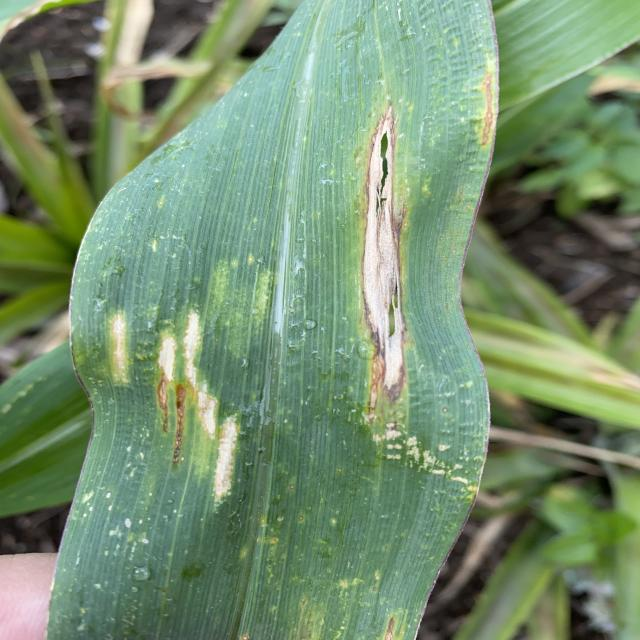Corn_Leaf_Blight: (68, 0, 487, 640)
